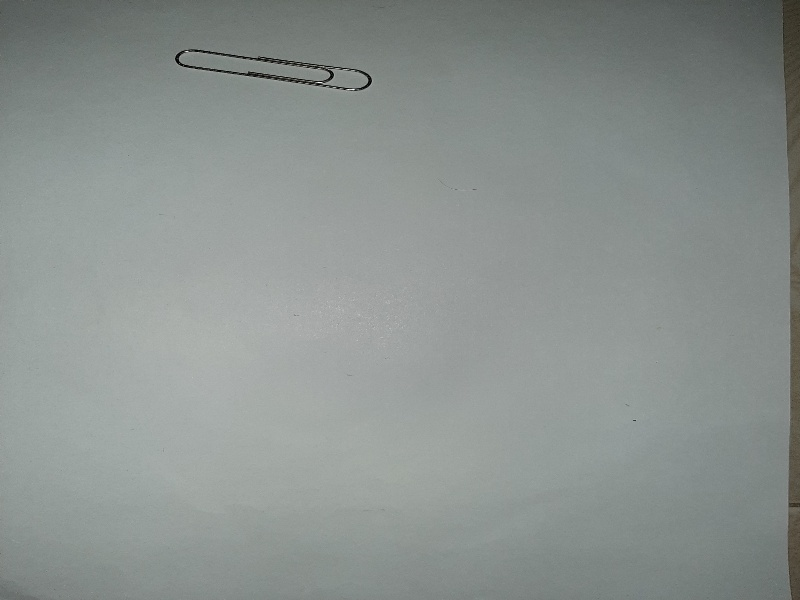Big Jumpclip: (173, 40, 378, 104)
